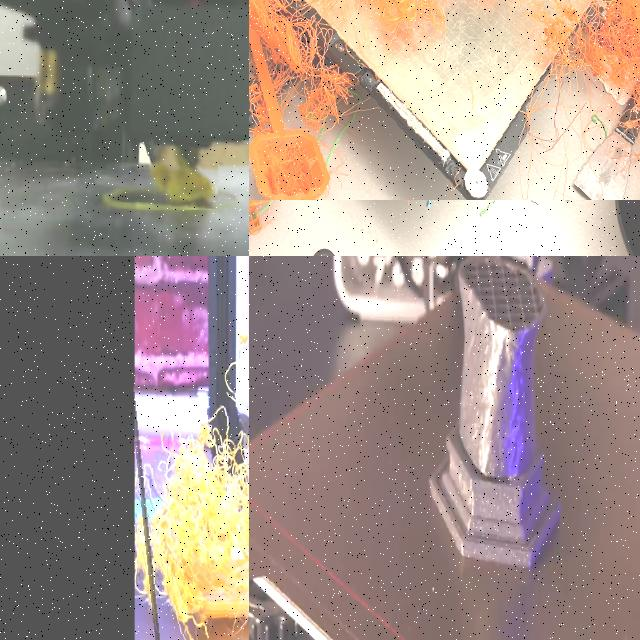spaghetti: (249, 0, 640, 200), (129, 386, 249, 640), (140, 150, 218, 210)
